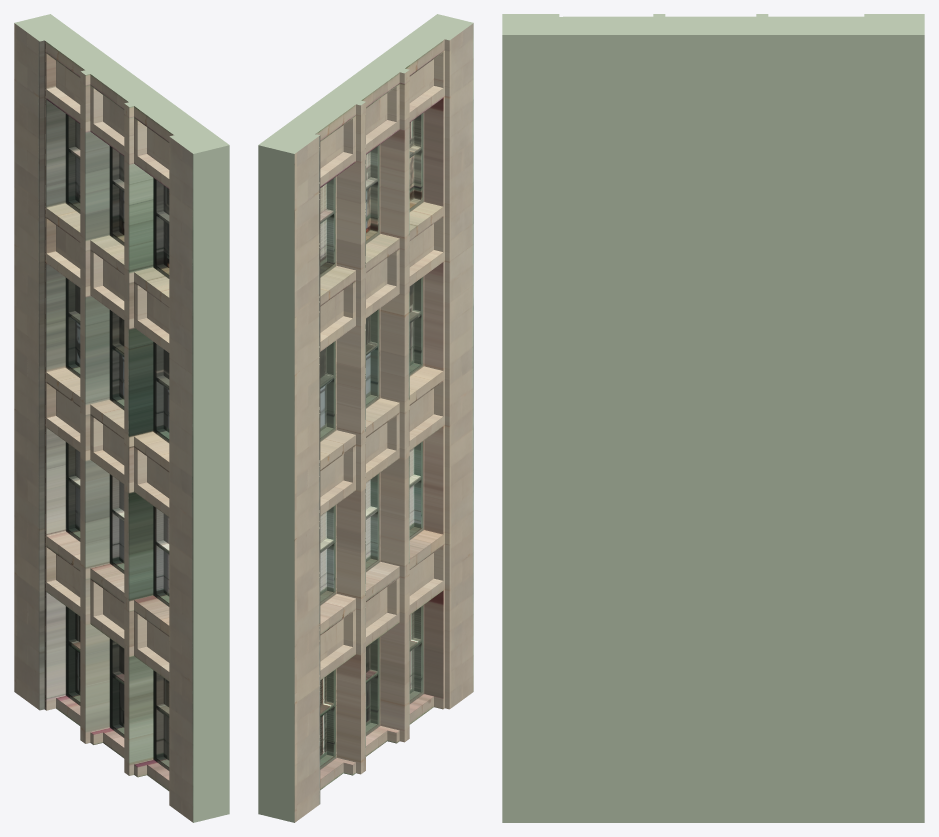
The model's file is facade3.fbx.
3 views of the same model, side by side, from view 1: azimuth 30°, elevation 25°; view 2: azimuth 150°, elevation 25°; view 3: azimuth 270°, elevation 25° (orthographic). The views are drawn at different scales.
Parts seen in each view (by area): view 1: facade3.002; view 2: facade3.002; view 3: facade3.002.
Boxes of the visible parts, x1=… form: facade3.002: x1=14, y1=14, x2=229, y2=822; facade3.002: x1=258, y1=14, x2=473, y2=822; facade3.002: x1=502, y1=14, x2=924, y2=822.
Bounding box in the file's own units: 2.97 × 52.12 × 25.3.
Materials: 2 (2 with a texture image).
